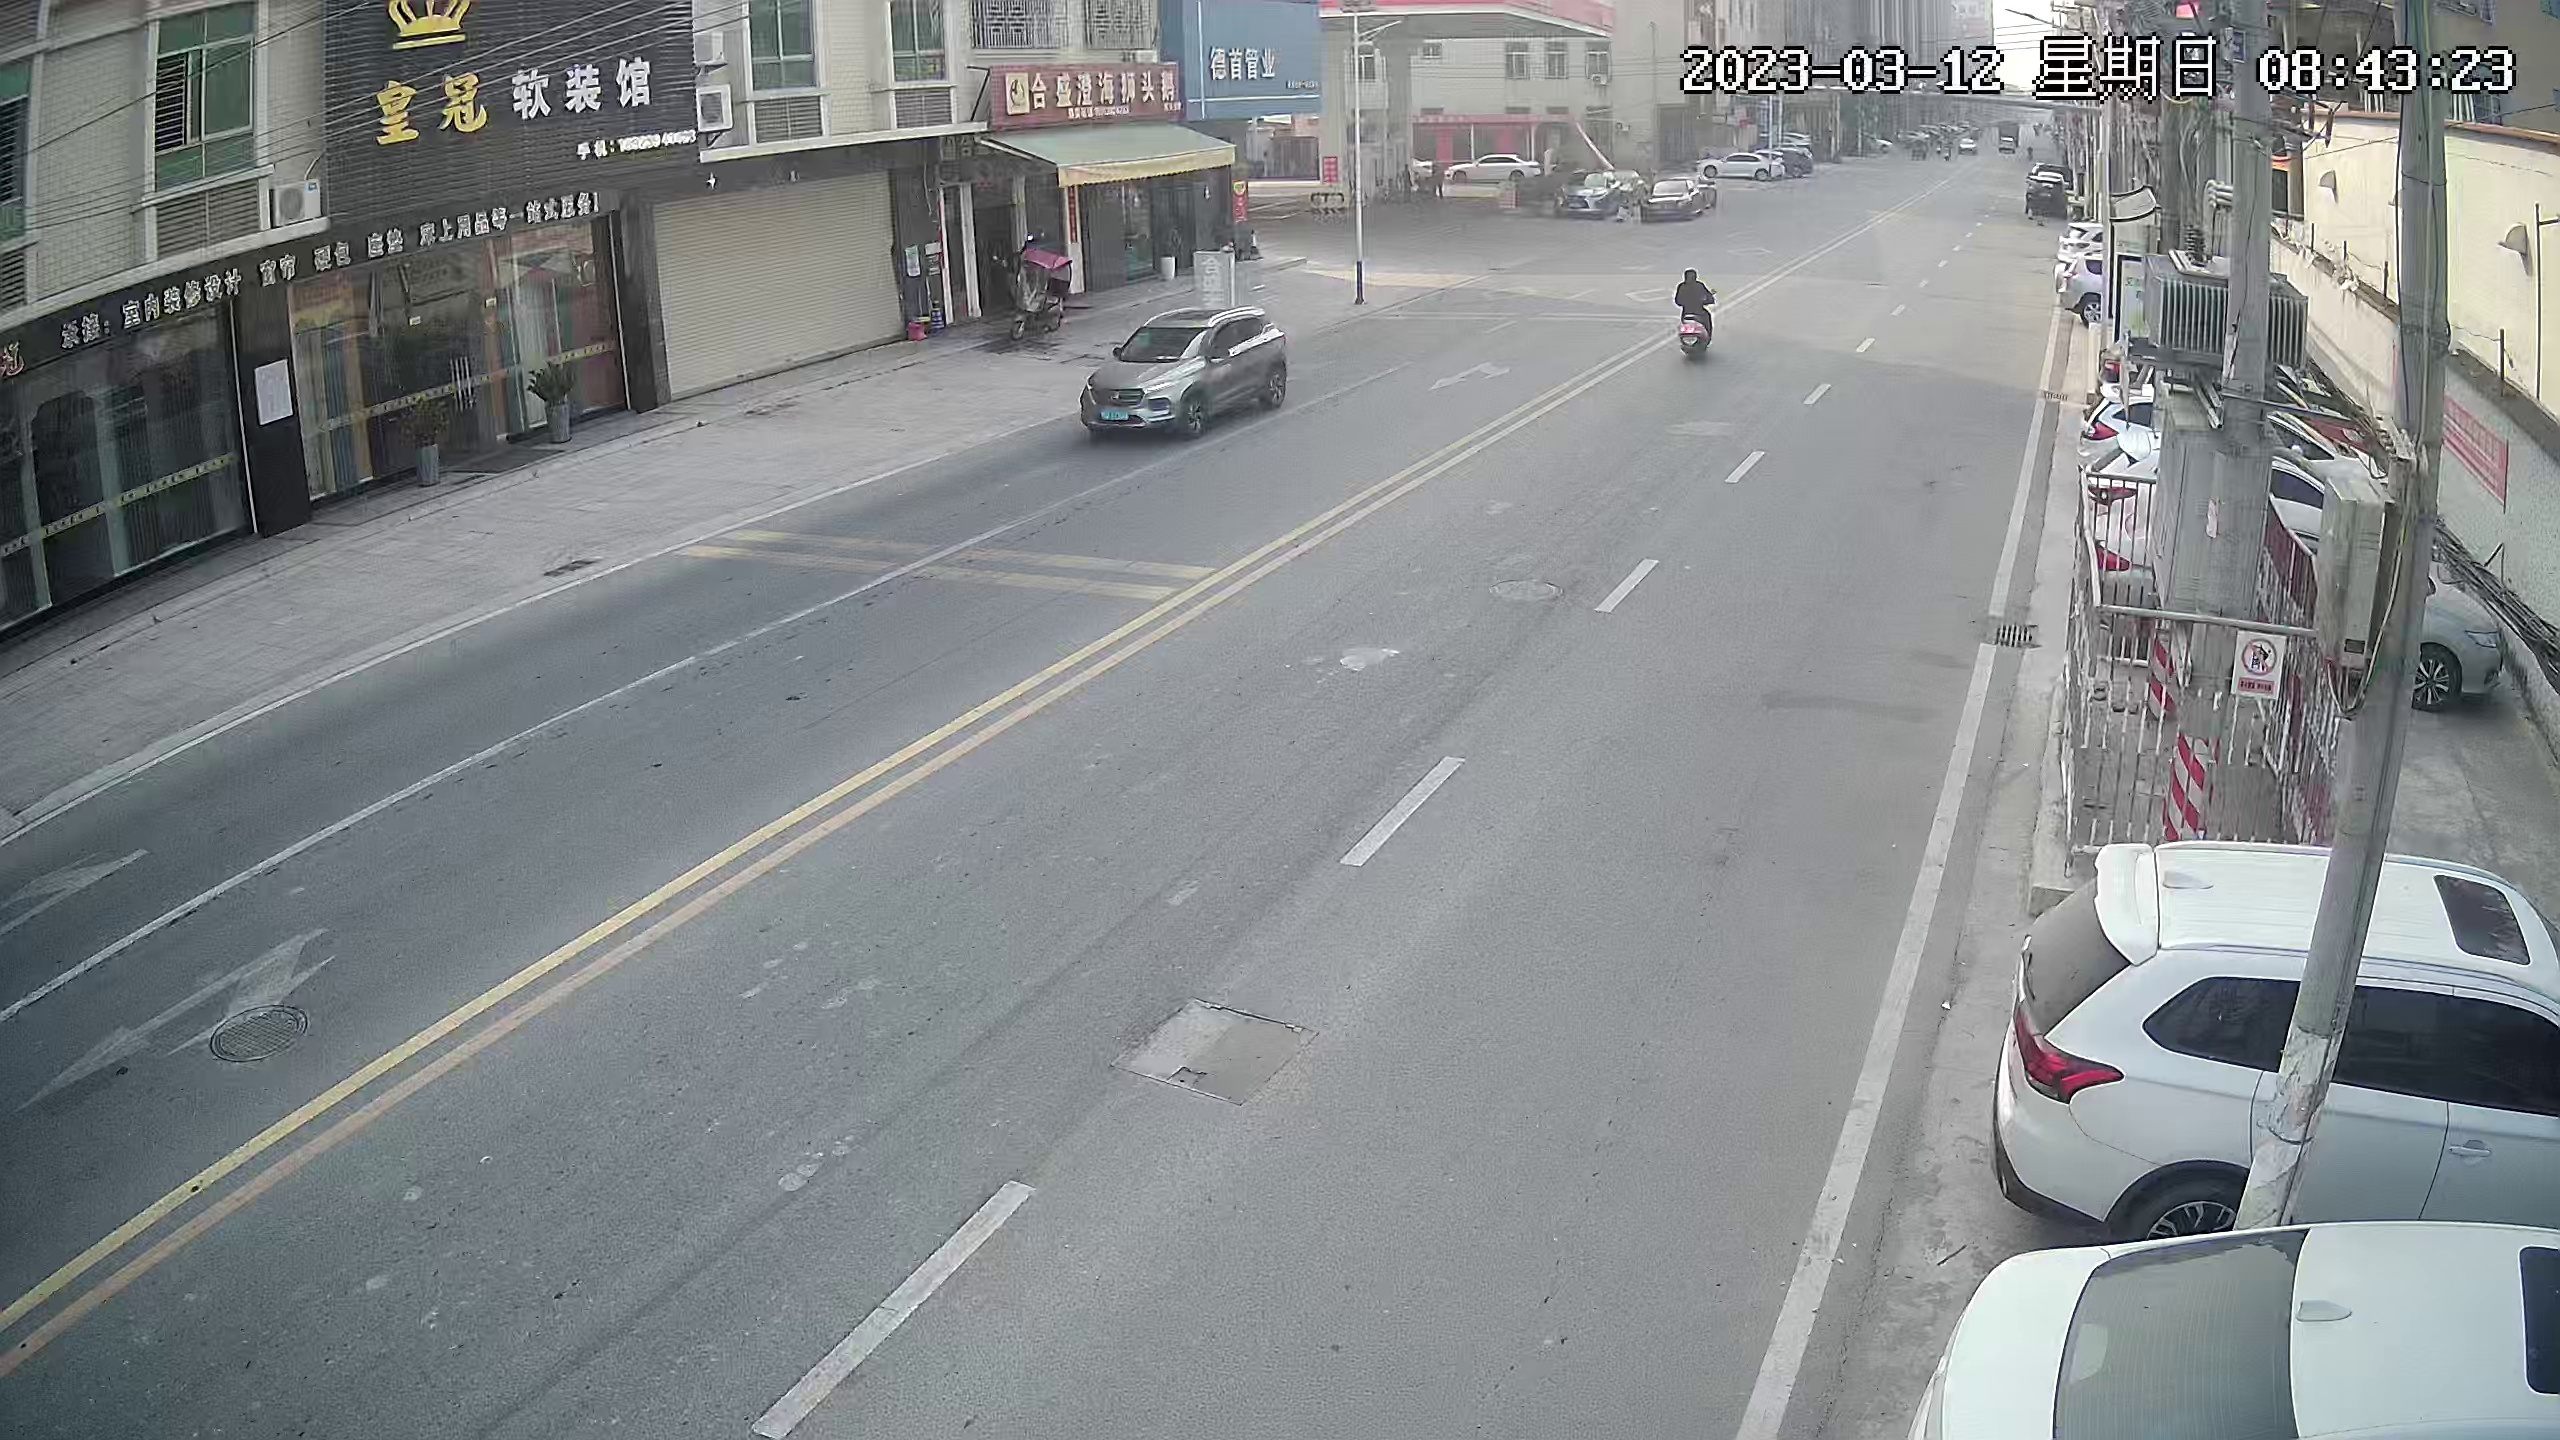motorcycle: (1009, 237, 1078, 345), (1677, 267, 1720, 369)
sedan: (1920, 1245, 2560, 1440), (2103, 527, 2493, 693), (2091, 445, 2388, 549), (2091, 387, 2316, 445), (2057, 229, 2108, 316), (1705, 149, 1783, 193), (1563, 172, 1628, 218), (1440, 158, 1538, 186), (1647, 178, 1707, 215), (2027, 171, 2064, 218), (1785, 137, 1809, 178)
suv: (2013, 853, 2560, 1229), (1085, 302, 1291, 440)
